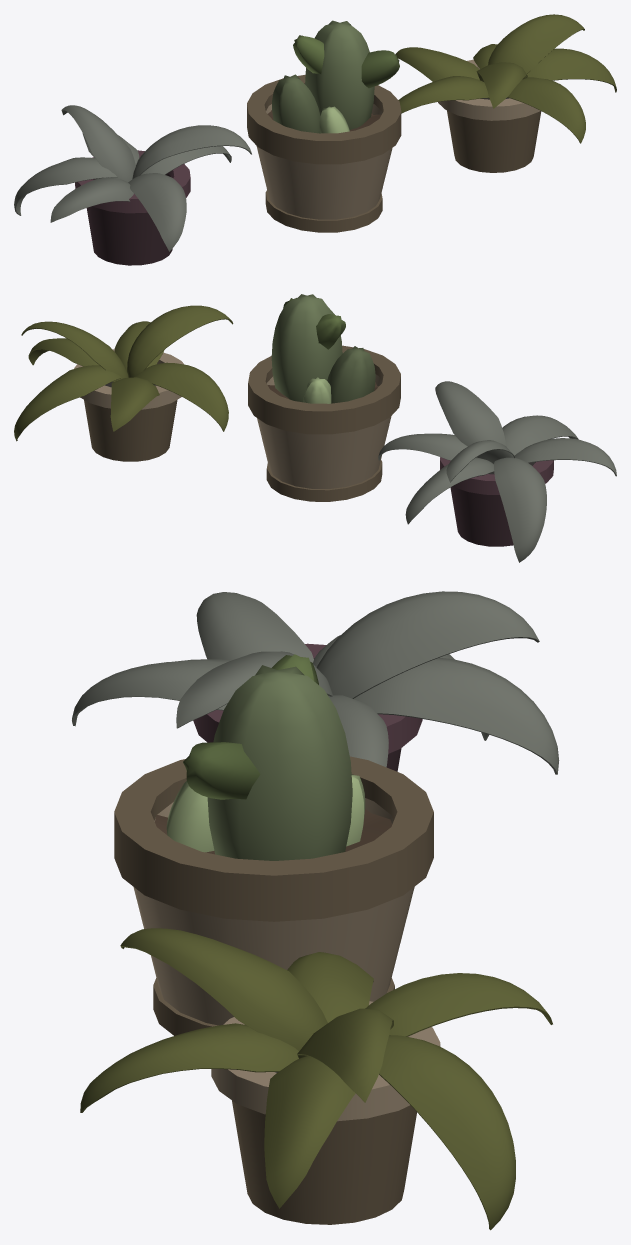
File: colored plants livingroom.fbx
The picture shows the model from 3 angles, top to bottom: view 1: azimuth 30°, elevation 25°; view 2: azimuth 150°, elevation 25°; view 3: azimuth 270°, elevation 25°; orthographic projection. The views are drawn at different scales.
Parts seen in each view (by area): view 1: polySurface2, polySurface3, polySurface5, polySurface15, polySurface25, polySurface17, polySurface21, polySurface16, polySurface27, polySurface29, polySurface6, polySurface12 (+12 smaller); view 2: polySurface2, polySurface3, polySurface5, polySurface15, polySurface28, polySurface19, polySurface29, polySurface25, polySurface11, polySurface18, polySurface6, polySurface30 (+13 smaller); view 3: polySurface3, polySurface5, polySurface2, polySurface15, polySurface27, polySurface18, polySurface19, polySurface22, polySurface12, polySurface16, polySurface20, polySurface30 (+12 smaller).
Part boxes in pixels (left/top/right/bottom): polySurface2: left=256, top=104, right=392, bottom=219; polySurface3: left=247, top=74, right=401, bottom=164; polySurface5: left=305, top=20, right=374, bottom=129; polySurface15: left=447, top=110, right=541, bottom=172; polySurface25: left=86, top=173, right=172, bottom=265; polySurface17: left=488, top=14, right=584, bottom=73; polySurface21: left=128, top=173, right=186, bottom=251; polySurface16: left=489, top=77, right=585, bottom=143; polySurface27: left=61, top=105, right=135, bottom=182; polySurface29: left=132, top=125, right=251, bottom=179; polySurface6: left=272, top=74, right=320, bottom=133; polySurface12: left=527, top=48, right=616, bottom=92; polySurface2: left=257, top=374, right=391, bottom=488; polySurface3: left=248, top=345, right=400, bottom=434; polySurface5: left=271, top=294, right=342, bottom=402; polySurface15: left=84, top=399, right=177, bottom=461; polySurface28: left=494, top=457, right=546, bottom=562; polySurface19: left=127, top=305, right=233, bottom=377; polySurface29: left=435, top=381, right=505, bottom=446; polySurface25: left=450, top=462, right=535, bottom=546; polySurface11: left=133, top=362, right=228, bottom=431; polySurface18: left=14, top=365, right=121, bottom=441; polySurface6: left=327, top=346, right=375, bottom=403; polySurface30: left=514, top=438, right=616, bottom=476; polySurface3: left=114, top=756, right=433, bottom=921; polySurface5: left=207, top=665, right=352, bottom=860; polySurface2: left=133, top=798, right=414, bottom=1025; polySurface15: left=232, top=1100, right=416, bottom=1224; polySurface27: left=316, top=591, right=539, bottom=698; polySurface18: left=379, top=1035, right=515, bottom=1230; polySurface19: left=120, top=928, right=327, bottom=1050; polySurface22: left=354, top=657, right=559, bottom=774; polySurface12: left=264, top=1056, right=355, bottom=1208; polySurface16: left=80, top=1023, right=298, bottom=1112; polySurface20: left=365, top=973, right=552, bottom=1036; polySurface30: left=196, top=592, right=313, bottom=662.
Size of the model in its own units: 0.3757 by 0.1125 by 0.1385.
